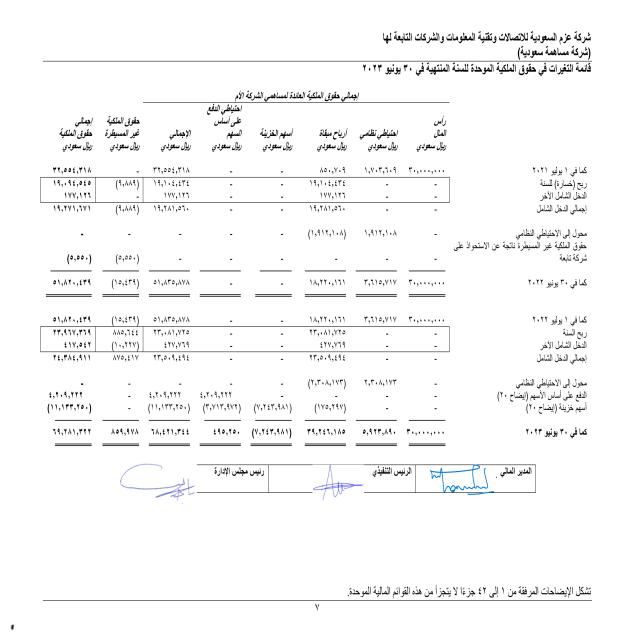financial_sheets: (490, 65, 595, 82)
table: (13, 87, 461, 473)
